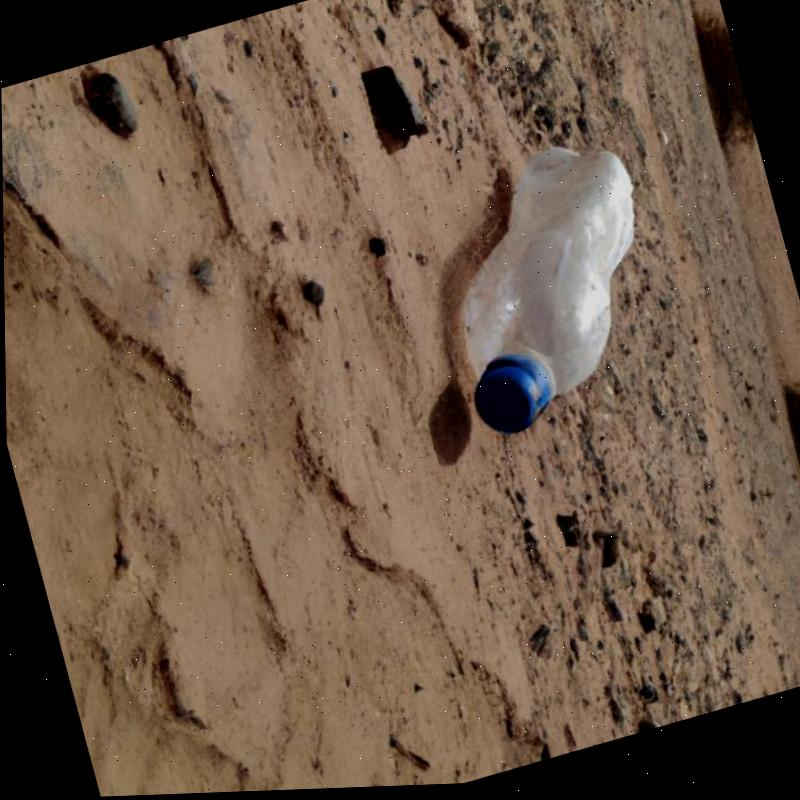botella: (413, 130, 686, 447)
